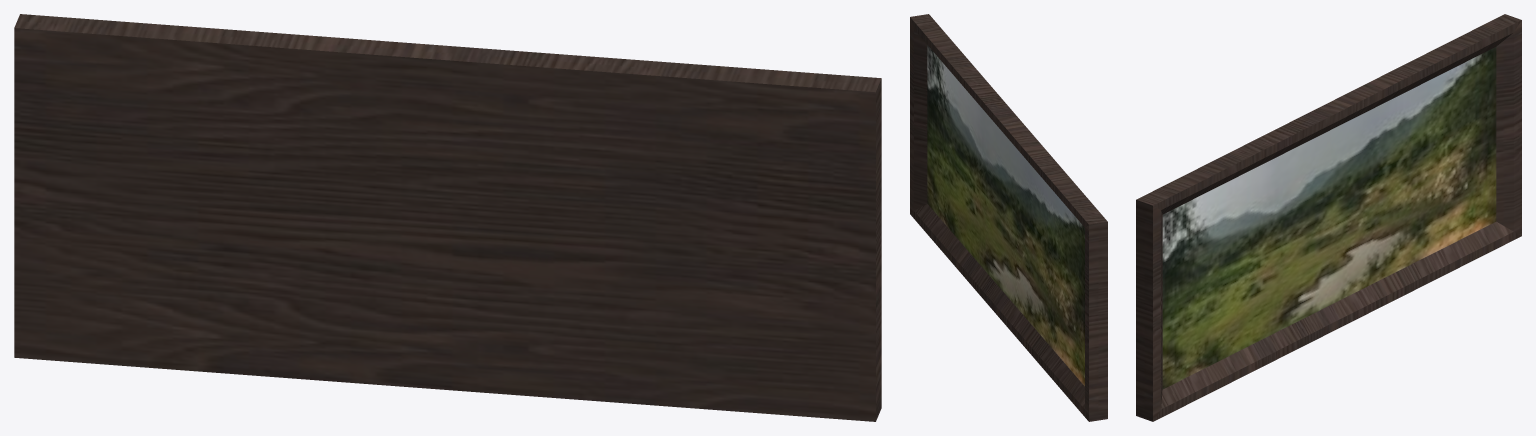
The picture shows the model from 3 angles, left to right: view 1: azimuth 30°, elevation 25°; view 2: azimuth 150°, elevation 25°; view 3: azimuth 270°, elevation 25°; orthographic projection. The views are drawn at different scales.
Visible parts, largest first — view 1: Paintings001_Wood_02002_0; view 2: Paintings001_Paintings_0, Paintings001_Wood_02002_0; view 3: Paintings001_Paintings_0, Paintings001_Wood_02002_0.
Part boxes in pixels (bbox=[...]): Paintings001_Wood_02002_0: bbox=[14, 14, 881, 421]; Paintings001_Paintings_0: bbox=[927, 45, 1084, 386]; Paintings001_Wood_02002_0: bbox=[910, 14, 1107, 421]; Paintings001_Paintings_0: bbox=[1162, 47, 1496, 389]; Paintings001_Wood_02002_0: bbox=[1136, 14, 1521, 421].
Size of the model in its own units: 1.75 by 0.921 by 1.49.
2 materials, 2 textured.
